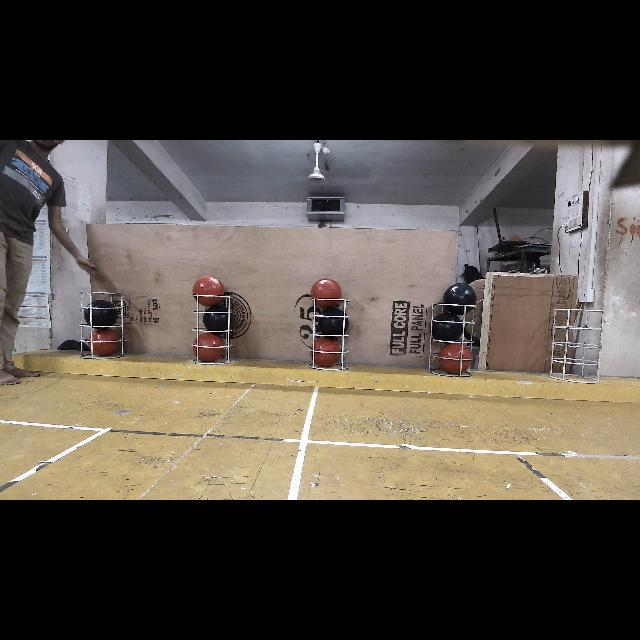P: (442, 282, 476, 315), (84, 300, 118, 330), (318, 308, 350, 338), (430, 314, 464, 342), (202, 306, 232, 332)
R: (440, 343, 472, 375), (86, 328, 122, 356), (310, 337, 342, 368), (192, 333, 225, 361), (311, 279, 341, 309), (192, 275, 225, 296), (198, 296, 222, 306)
S: (548, 307, 608, 379), (426, 299, 478, 379), (74, 286, 126, 358), (188, 293, 238, 367), (305, 296, 351, 368)
